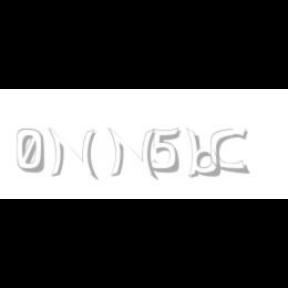0: (16, 128, 48, 174)
5: (150, 128, 180, 174)
C: (210, 128, 248, 174)
N: (107, 128, 156, 180), (48, 128, 96, 180)
b: (186, 128, 224, 178)
